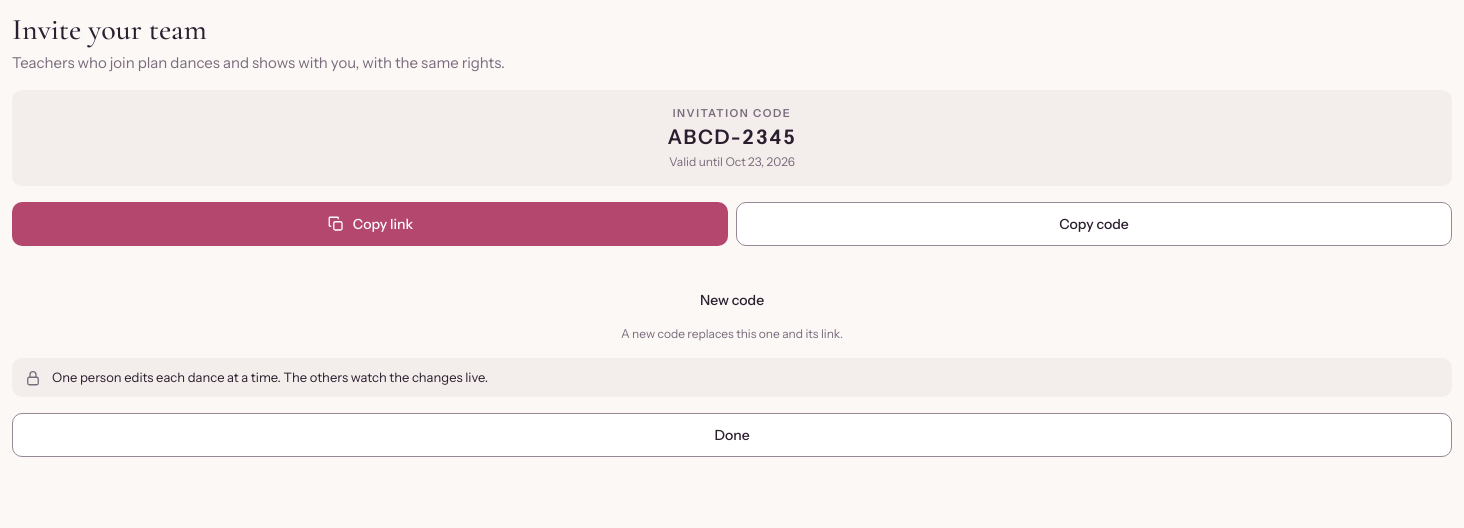
Test: with an active code › says so when a new code cannot be made
Click the button "New code".
click(732, 300)  # box [683,278,781,322]
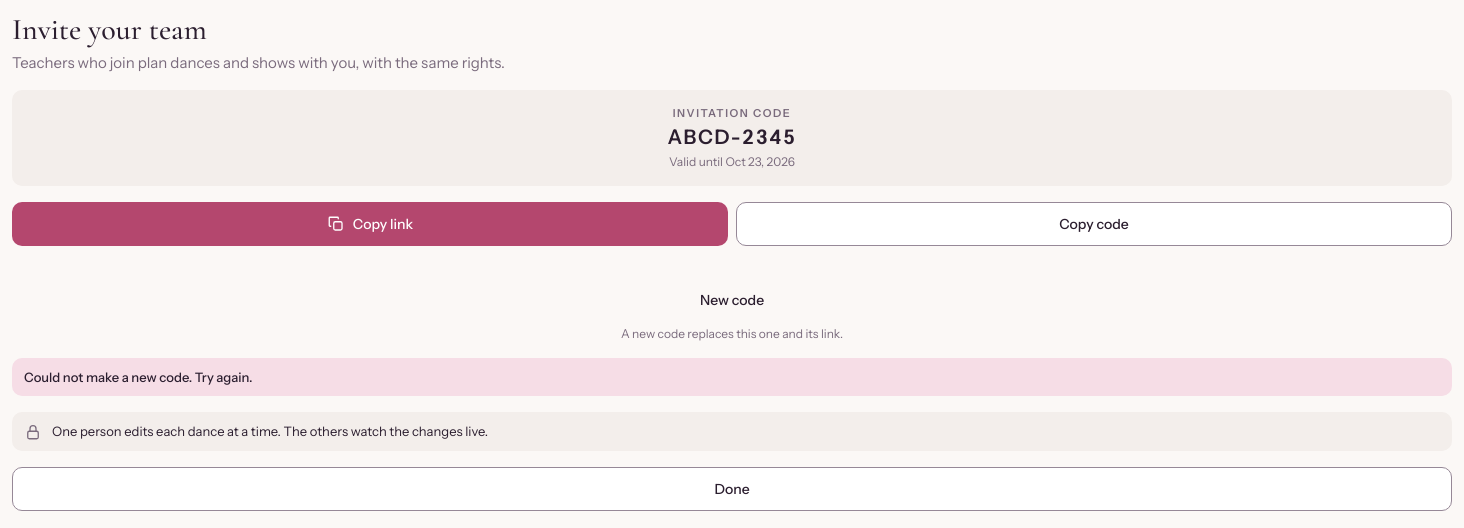
Now the message shows "Could not make a new code.", box [24,369,252,385]
